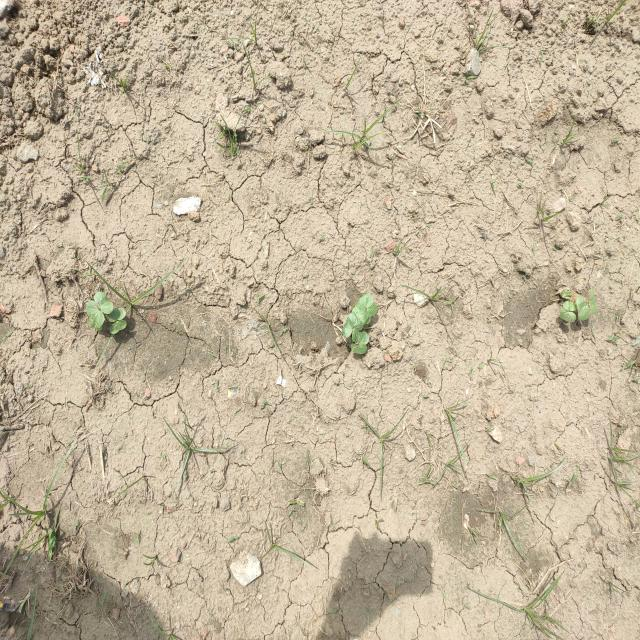seedling_s2: (86, 300, 105, 328), (94, 292, 113, 313), (342, 312, 357, 338), (355, 293, 373, 314), (576, 295, 590, 321), (352, 307, 368, 325), (106, 308, 126, 322), (365, 303, 377, 324), (110, 320, 127, 334), (352, 321, 363, 342), (589, 288, 597, 314), (560, 309, 576, 322), (355, 332, 369, 345), (351, 343, 367, 354), (563, 301, 576, 311)
